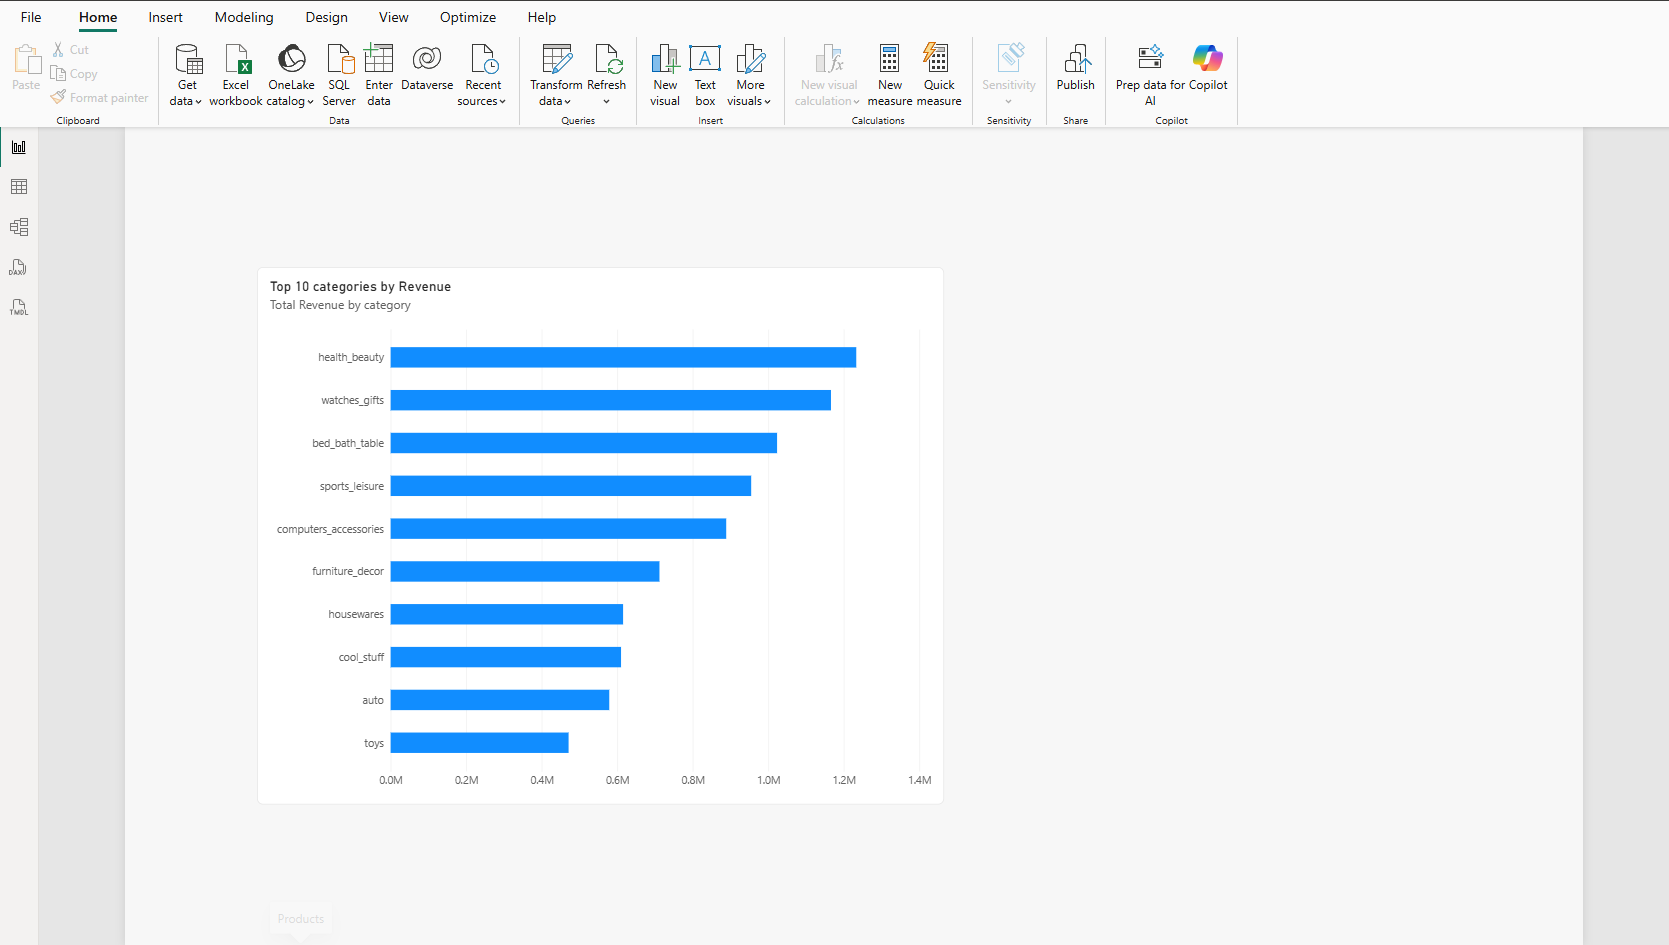

The page's visual inventory and layout, read from the dashboard file:
{"tool":"powerbi","page":{"name":"Products","canvas":[1920,1080],"ordinal":1},"visuals":[{"type":"clusteredBarChart","title":"Top 10 categories by Revenue","fields":{"Category":["dim_products.category"],"Y":["fact_orders.Total Revenue"]},"box":[173.7,184.2,905.3,707.9],"z":0}]}

Visuals, with their boxes on the page's 1920x1080 design canvas (x1, y1, x2, y2). These are canvas units, not pixel positions in the 1669x945 screenshot, which may show the page scaled, cropped or inside an application window:
"Top 10 categories by Revenue" clusteredBarChart: bbox=(174, 184, 1079, 892)
